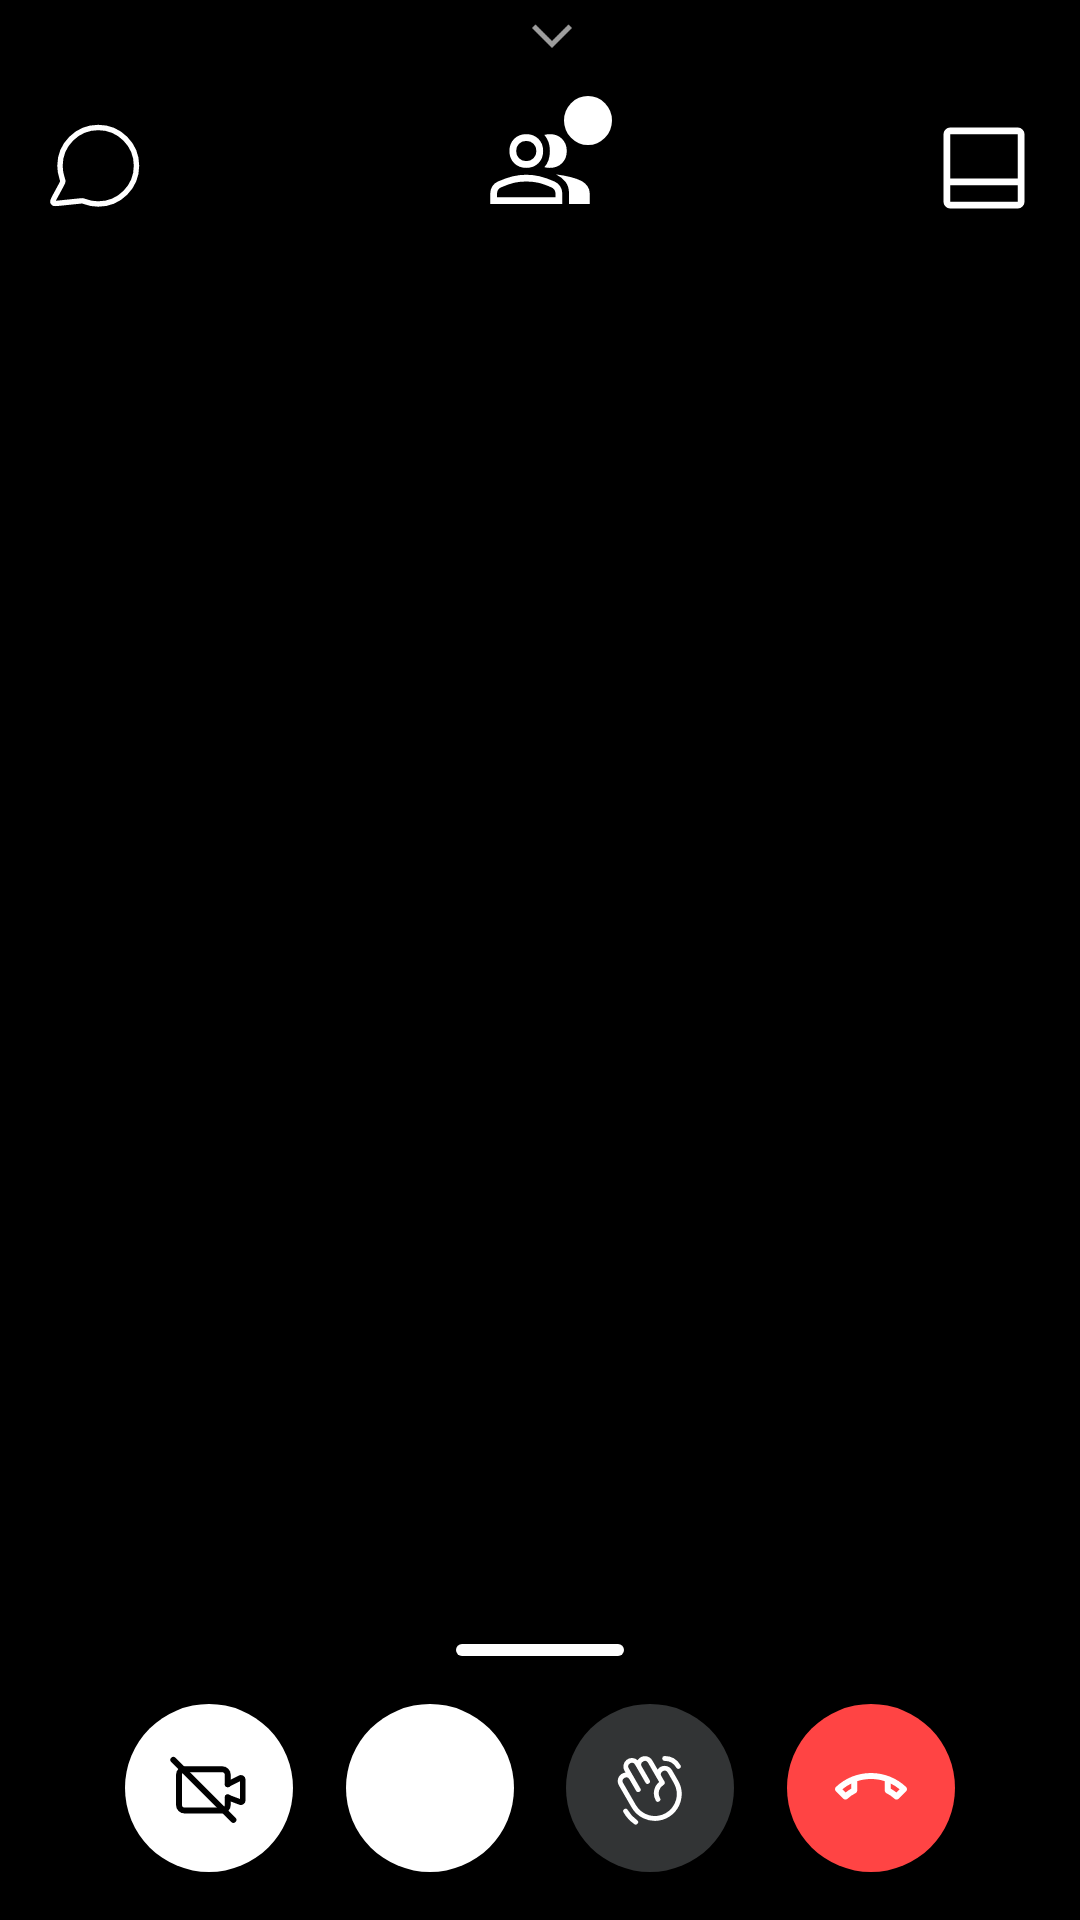

Screen size 1080*1920. Icon name, then its center in pixels as point (x, y):
call end: point (871, 1788)
camera off: point (209, 1788)
dock to bottom: point (984, 168)
hand waving: point (650, 1788)
message circle: point (95, 165)
